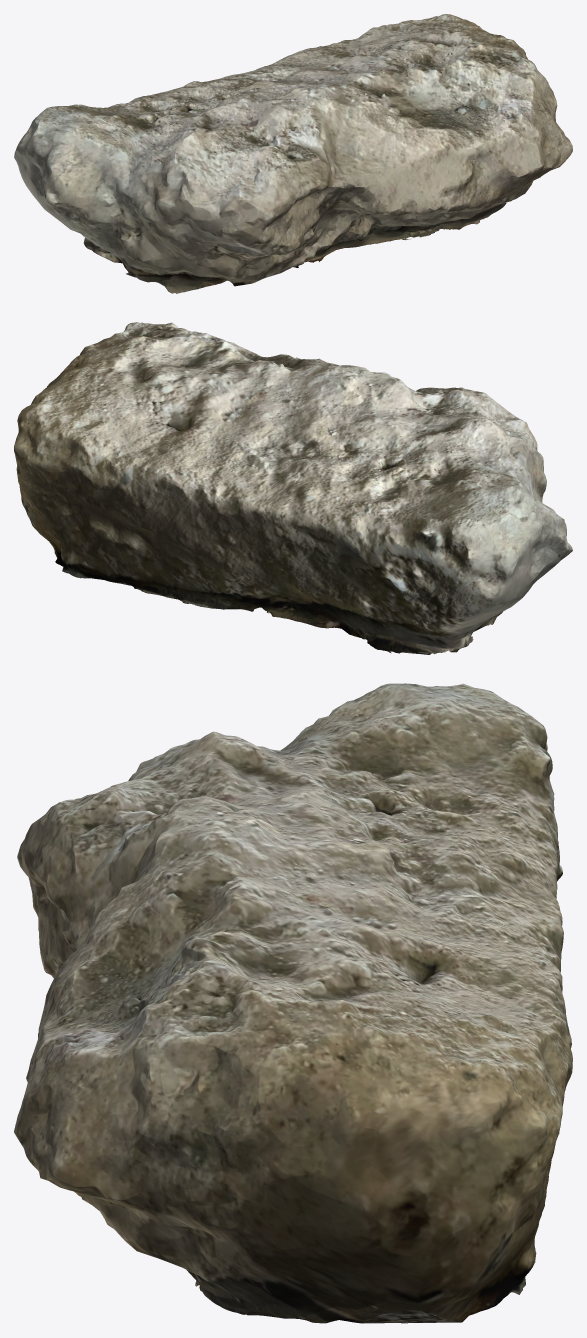
File: FRAG-S1-FS-006.glb
The picture shows the model from 3 angles, top to bottom: view 1: azimuth 30°, elevation 25°; view 2: azimuth 150°, elevation 25°; view 3: azimuth 270°, elevation 25°; orthographic projection. The views are drawn at different scales.
Parts seen in each view (by area): view 1: FRAG-S1-FS-006; view 2: FRAG-S1-FS-006; view 3: FRAG-S1-FS-006.
Part boxes in pixels (box(x1,y1,x2,y2)): FRAG-S1-FS-006: box(14, 14, 572, 293); FRAG-S1-FS-006: box(14, 322, 572, 654); FRAG-S1-FS-006: box(14, 683, 572, 1323).
Bounding box in the file's own units: 1.72 × 0.5966 × 0.9331.
1 material, 1 textured.
